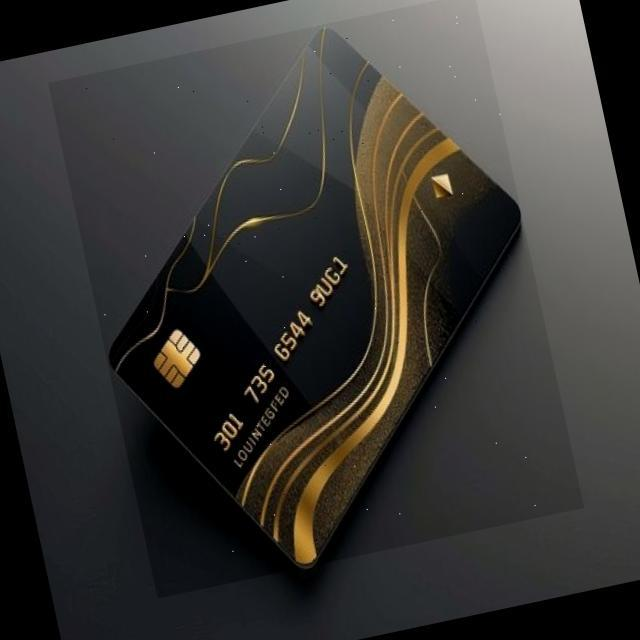payment_card: (106, 24, 523, 571)
